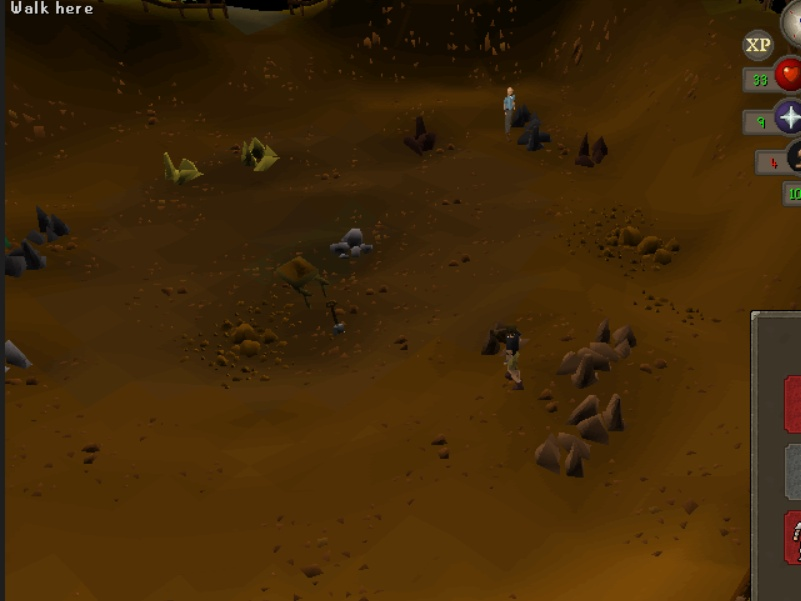copper: (561, 388, 631, 445), (529, 430, 598, 480), (547, 346, 618, 390), (590, 318, 643, 361)
gold: (229, 134, 293, 176), (156, 144, 208, 187)
iron: (570, 127, 619, 176), (396, 111, 445, 160)
